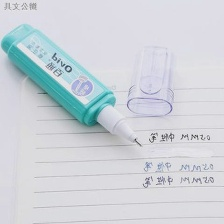correction_fluid: (0, 19, 147, 150)
